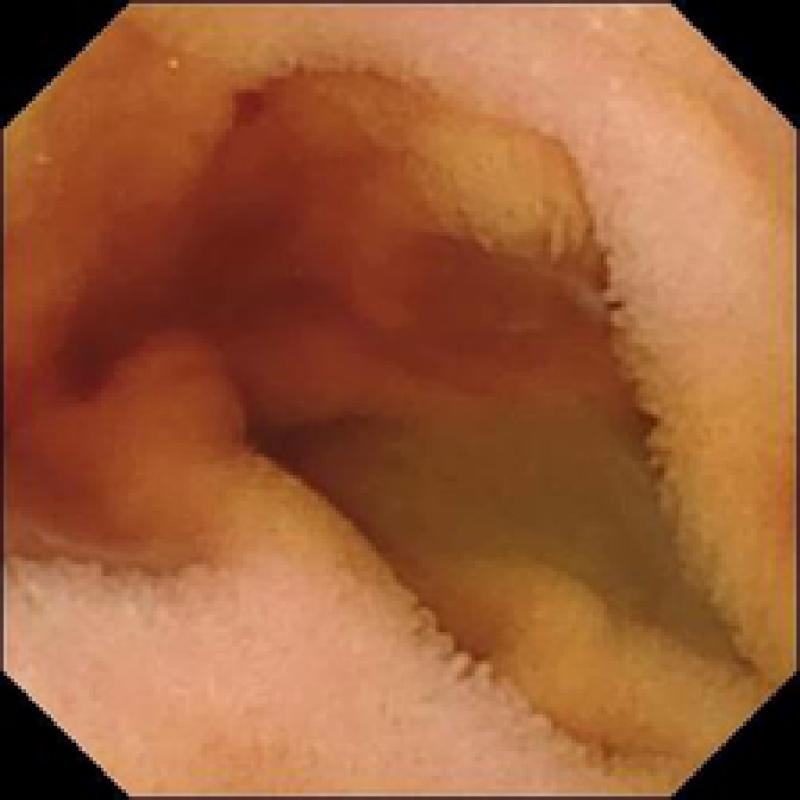bleeding: (36, 75, 414, 404)
